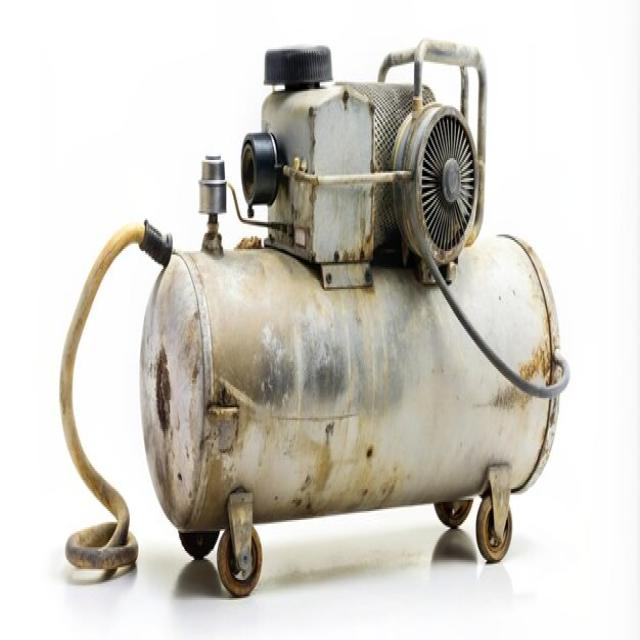compressor: (58, 37, 586, 598)
corrosion detected: (220, 342, 353, 436), (501, 301, 568, 418), (138, 340, 180, 426)
